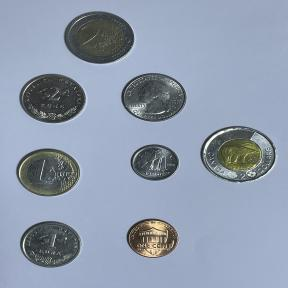1 Euro: (12, 144, 84, 202)
2 Euro: (60, 8, 137, 70)
Canda-10cent-: (127, 141, 183, 184)
Canda-2Dollar-: (193, 122, 281, 187)
Croatia-2Kune-: (16, 70, 90, 126)
US-1cent-: (125, 216, 179, 262)
US-25cent-: (119, 70, 189, 128)
